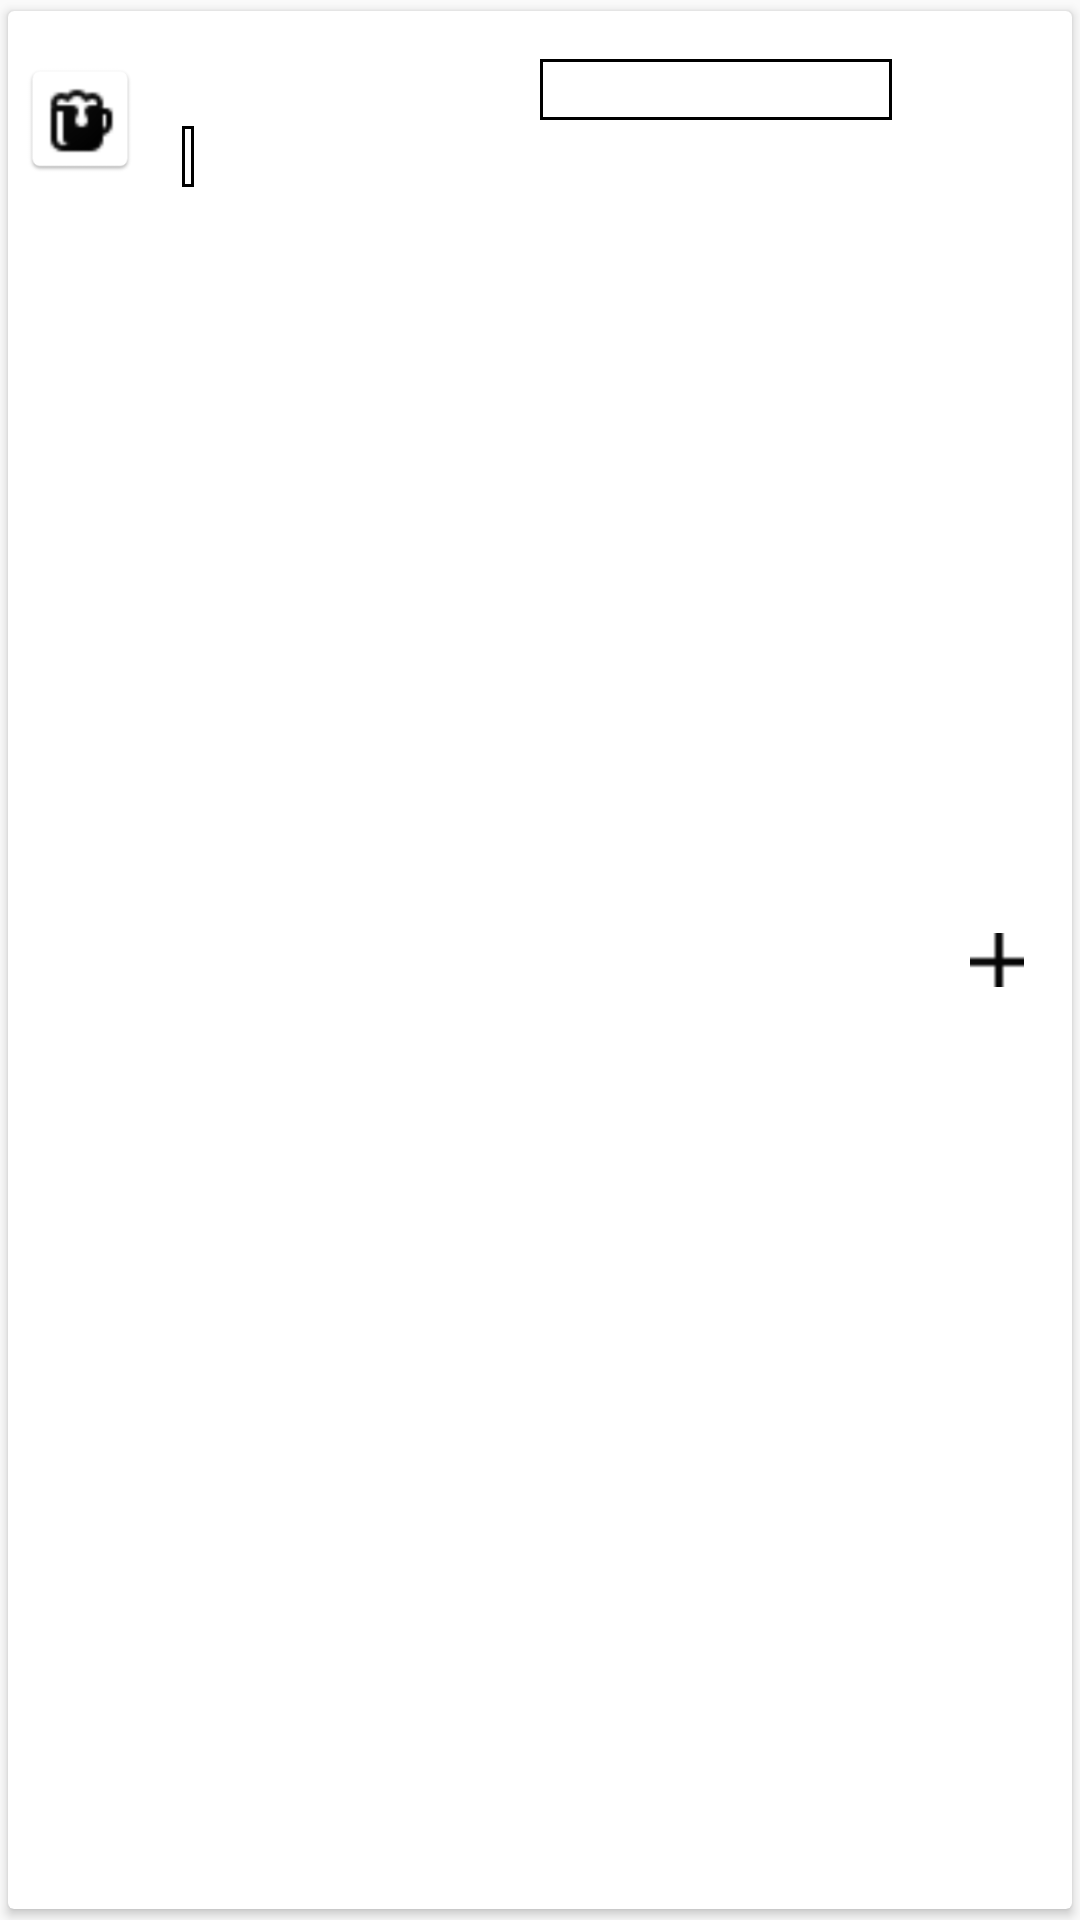

Icons on this 1080 × 1920 Android screen, each with the point to tap as point (x, y):
add to cart: point (997, 960)
beer glass: point (80, 129)
